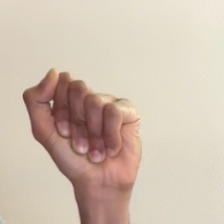A: (17, 62, 164, 208)
